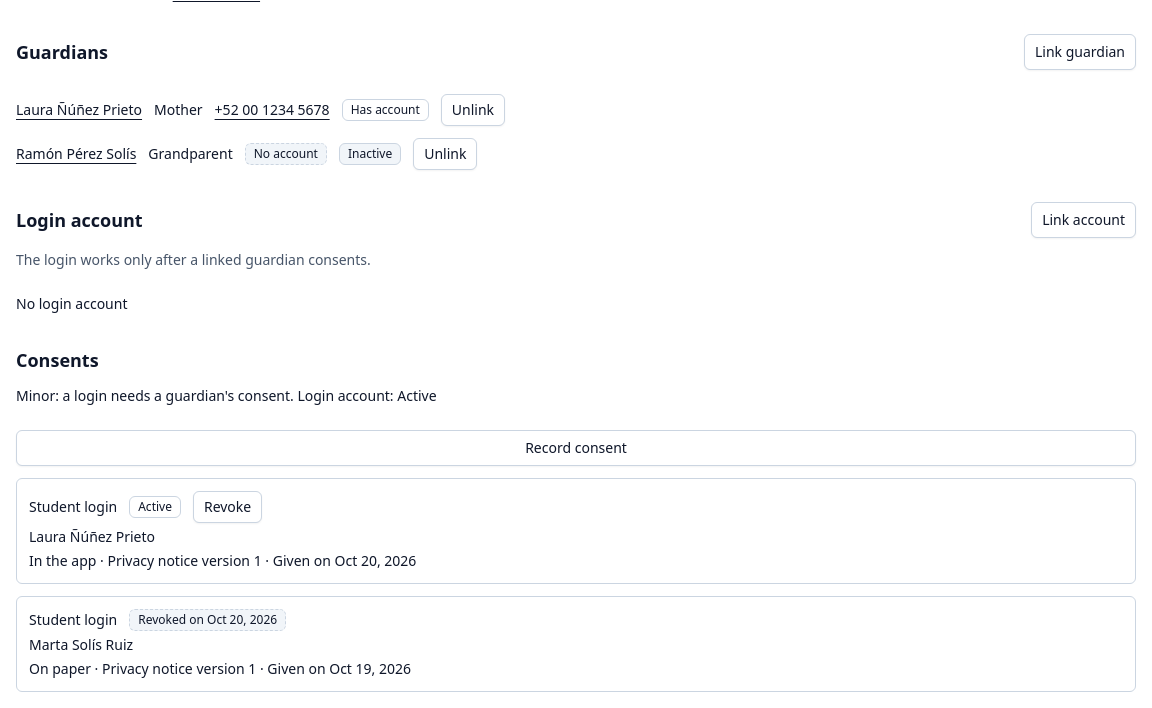
staff (I2) › records a paper consent; a server field error lands on its control
(page scrolled)
Step 1. Click the button "Record consent" → (576, 448), box [16,430,1136,466]
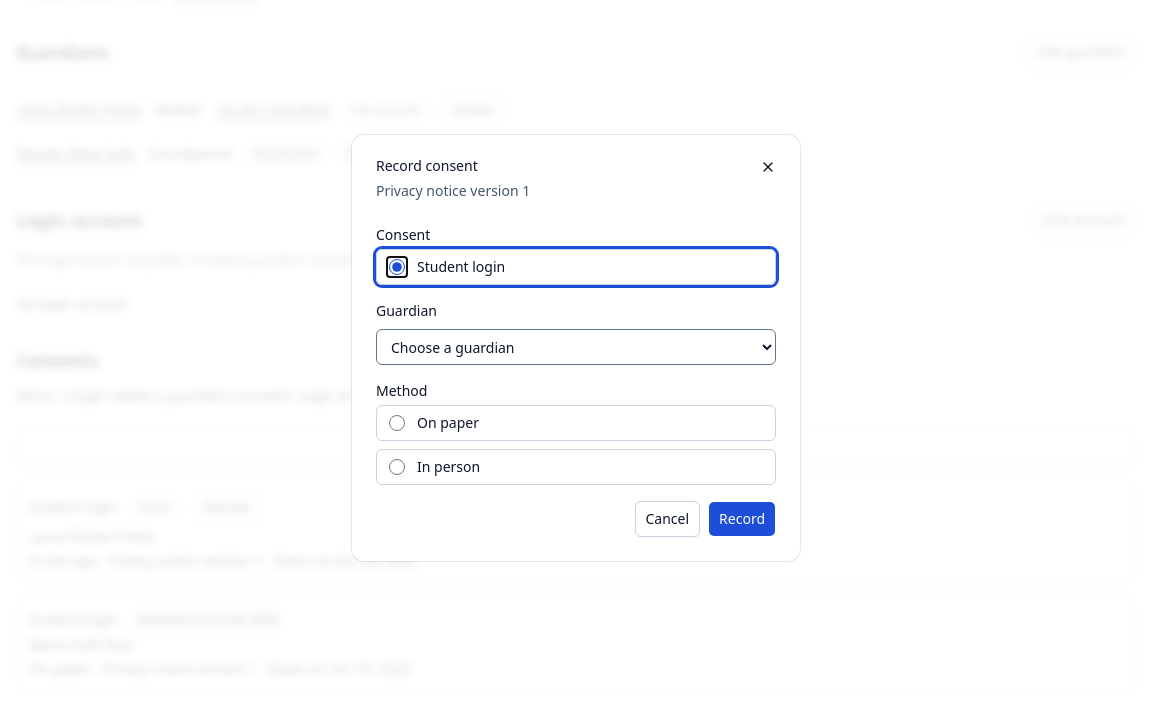
Step 2. Click the button "Record" → (742, 519), box [708,501,776,537]
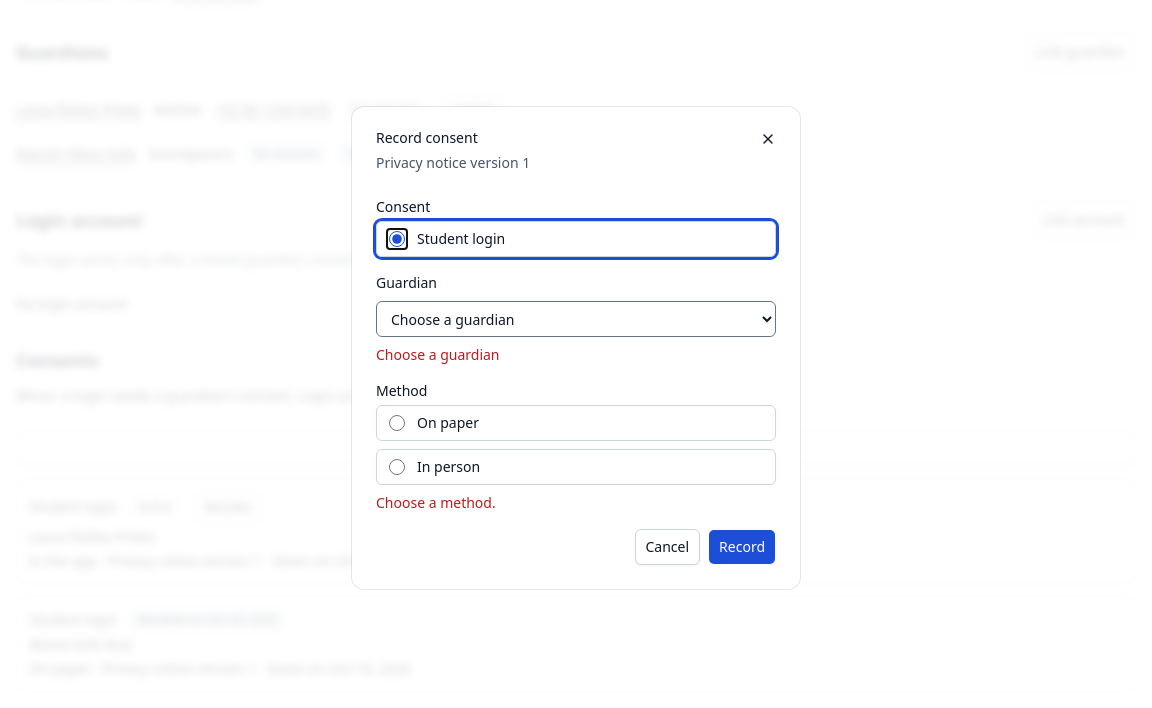
expect the dialog shows "Choose a guardian": met, box [376,345,500,364]
expect the dialog shows "Choose a method.": met, box [376,493,496,512]
Step 3. Select "Marta Solís Ruiz · Legal guardian" in the dropdown labelled "Guardian" → (576, 319), box [376,301,776,337]
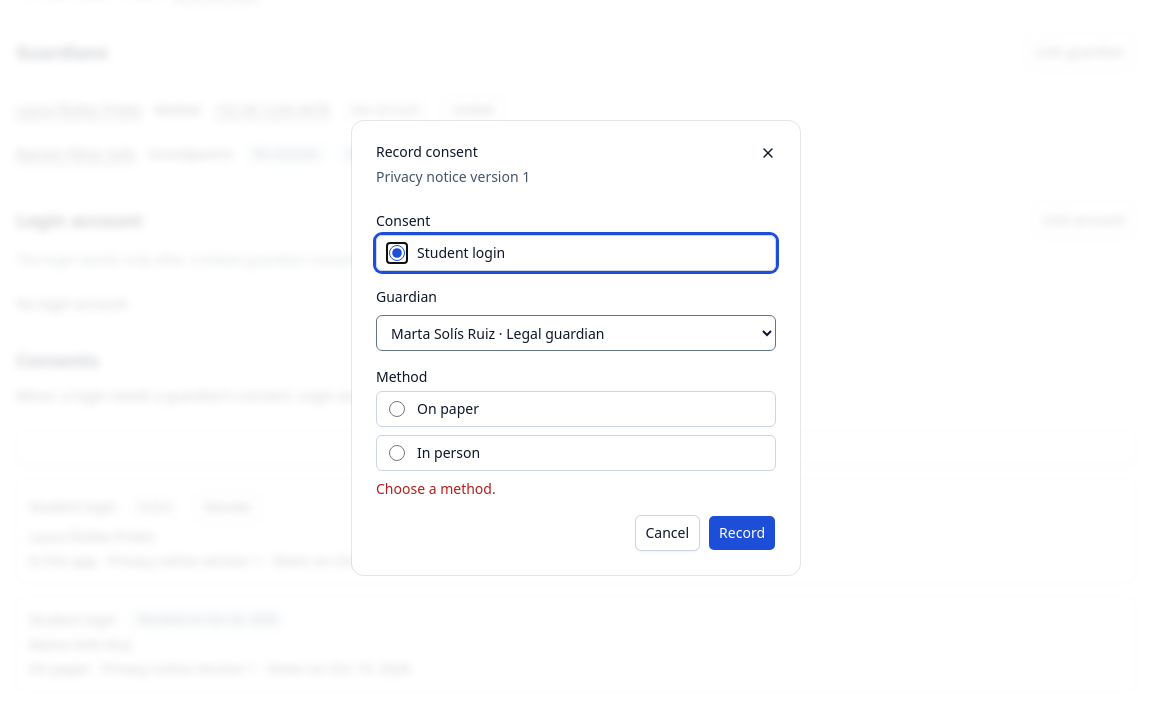
Step 4. Click the radio button labelled "On paper" → (397, 409), box [389,401,405,417]
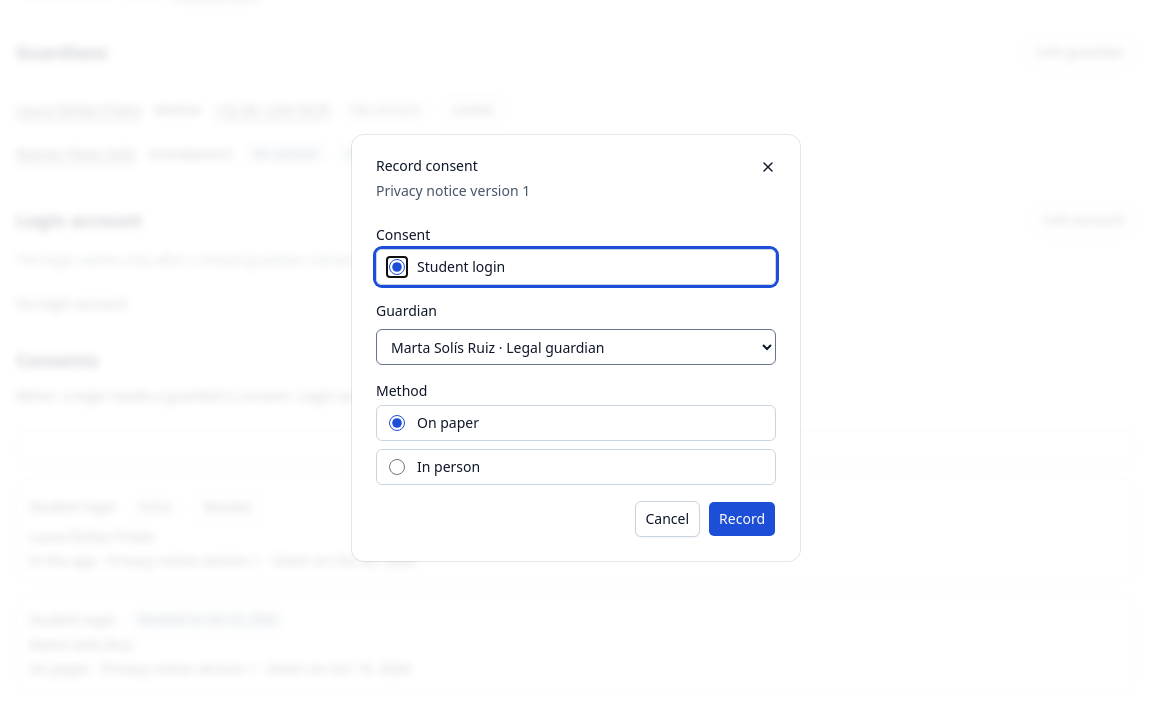
Step 5. Click the button "Record" → (742, 519), box [708,501,776,537]
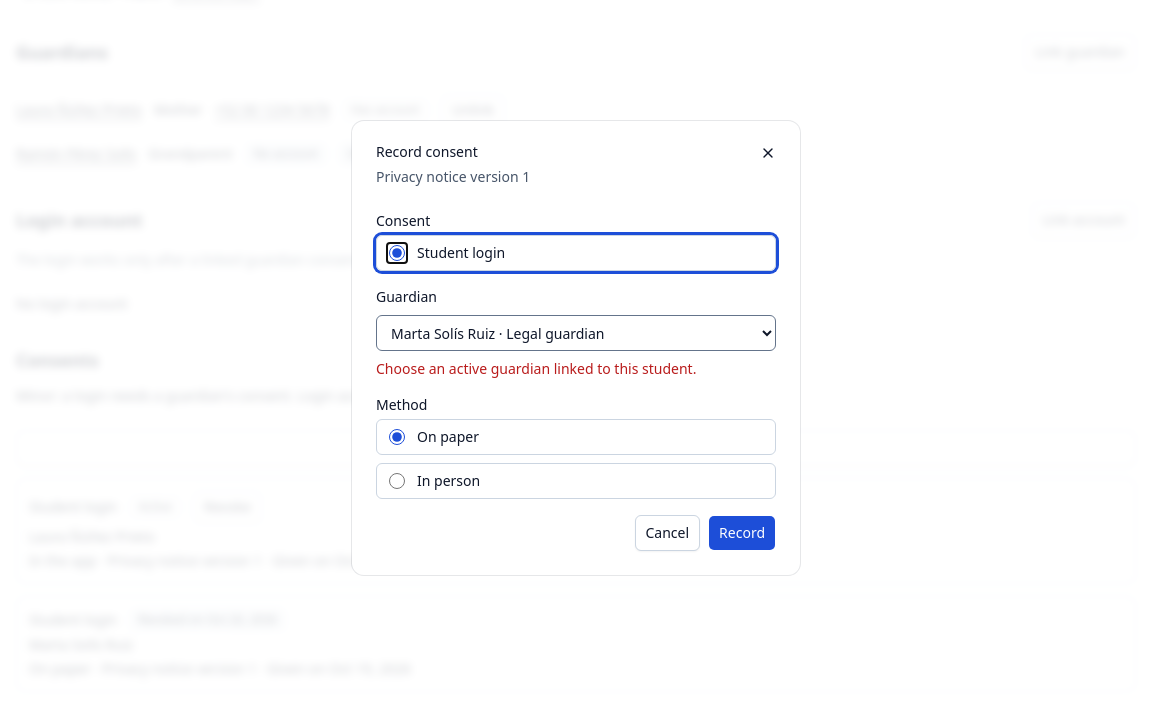
expect the text "Choose an active guardian linked to this student." is shown: met, box [376,359,696,378]
Step 6. Click the button "Record" → (742, 533), box [708,515,776,551]
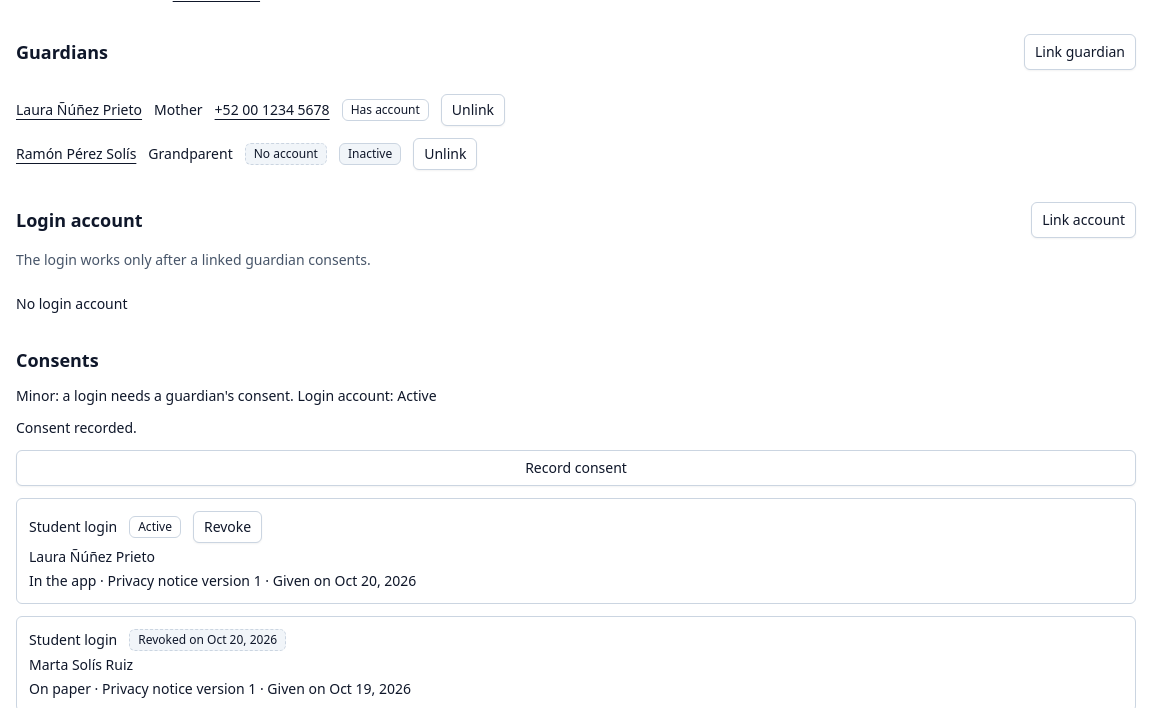
expect the dialog is gone: met
expect the message "Consent recorded." is shown: met, box [16,418,137,437]
